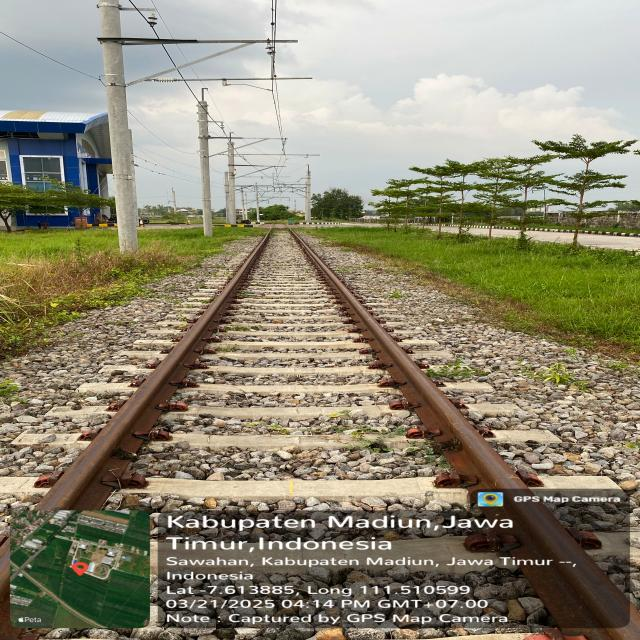rail-detection: (291, 231, 640, 640), (40, 234, 269, 510)
